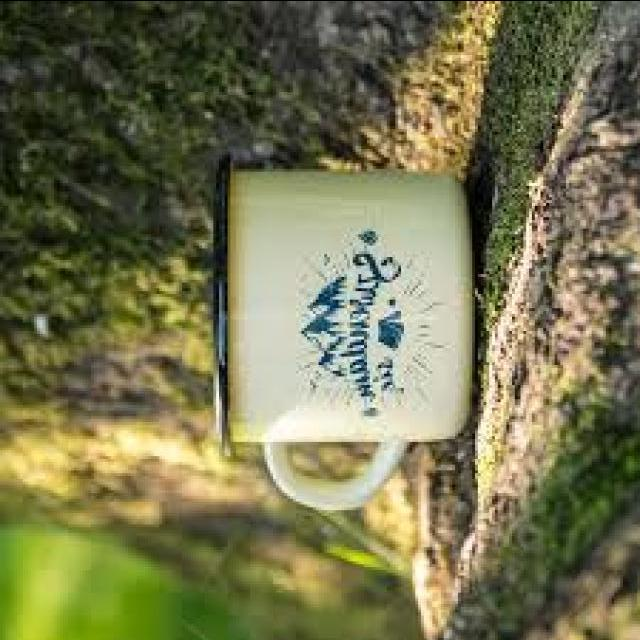Coffee Mug: (214, 154, 478, 506)
